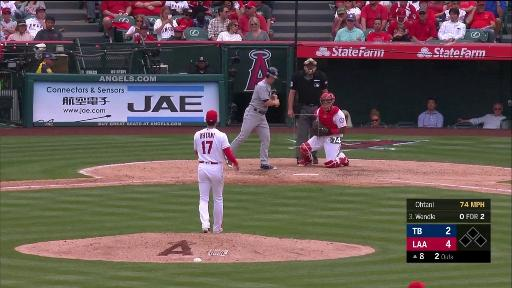pitcher: (194, 110, 241, 233)
